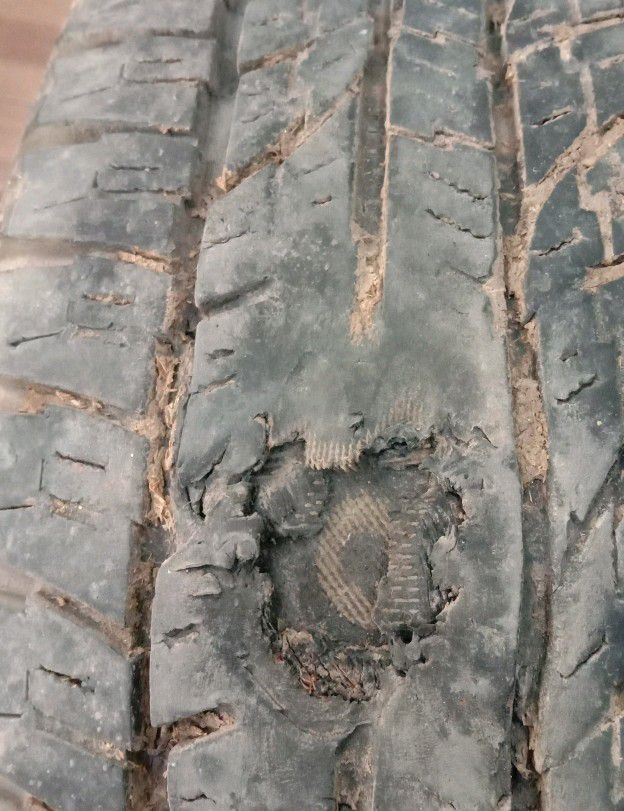tr: (171, 409, 481, 713)
